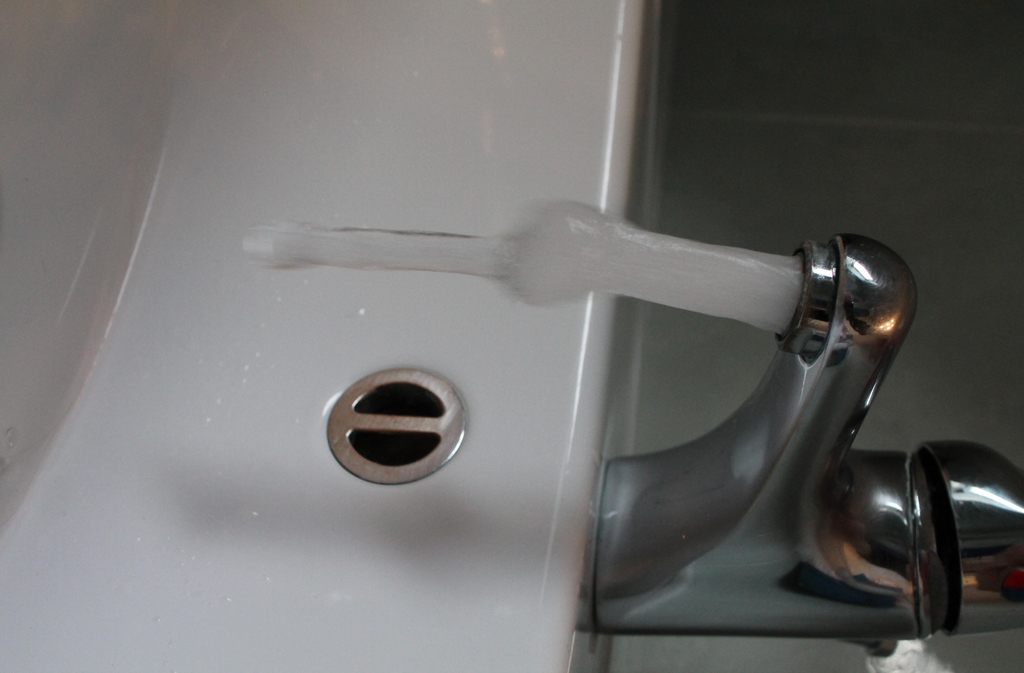tap: (590, 235, 1023, 655)
